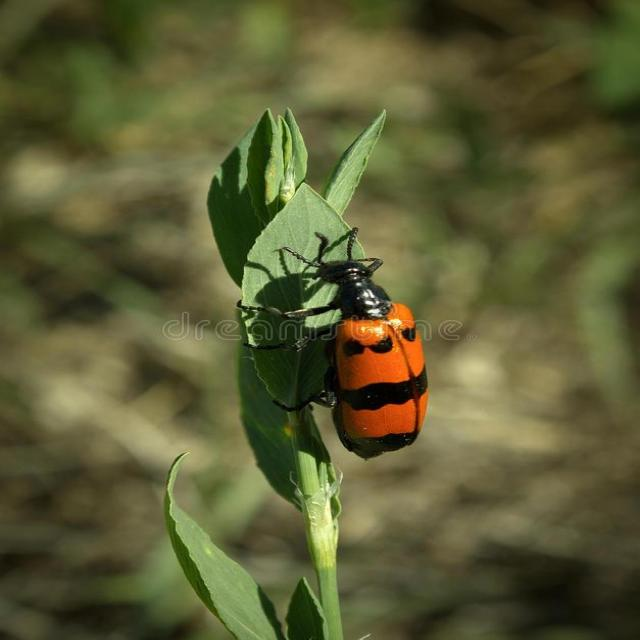BlisterBeetle-Adult-: (210, 212, 458, 469)
